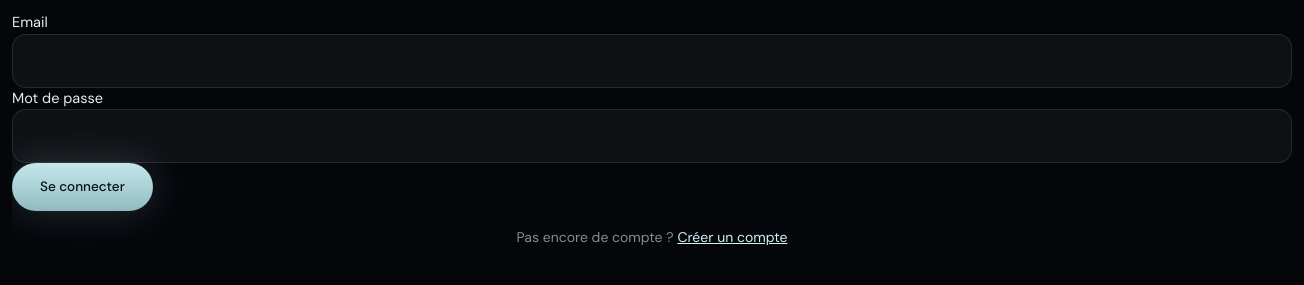
it: Login › shows an error message when signIn fails
The image size is (1304, 285).
Type "ada@mimir.app" into the field labelled "Email" at (652, 61), box [12,34,1292,88]
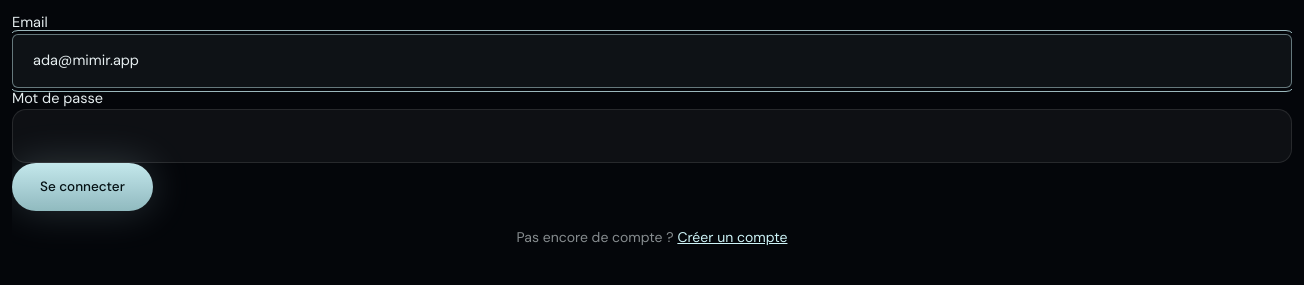
Type "mauvais" into the password field labelled "Mot de passe" at (652, 136), box [12,109,1292,163]
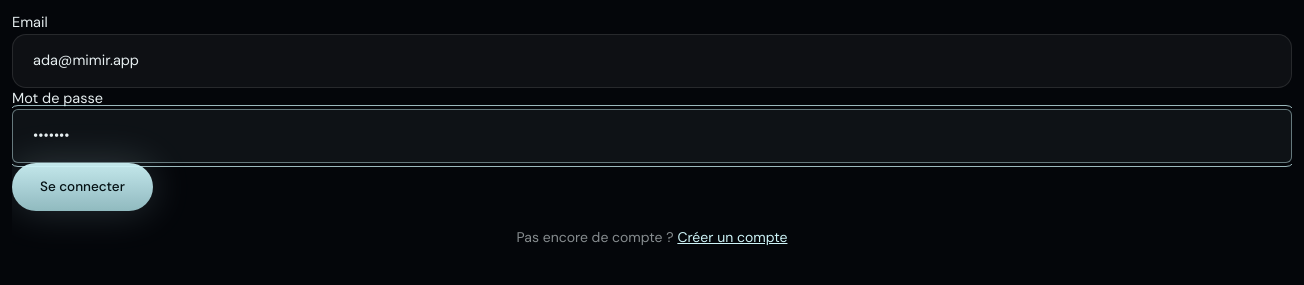
Click the button "Se connecter" at (82, 187), box [12,163,153,211]
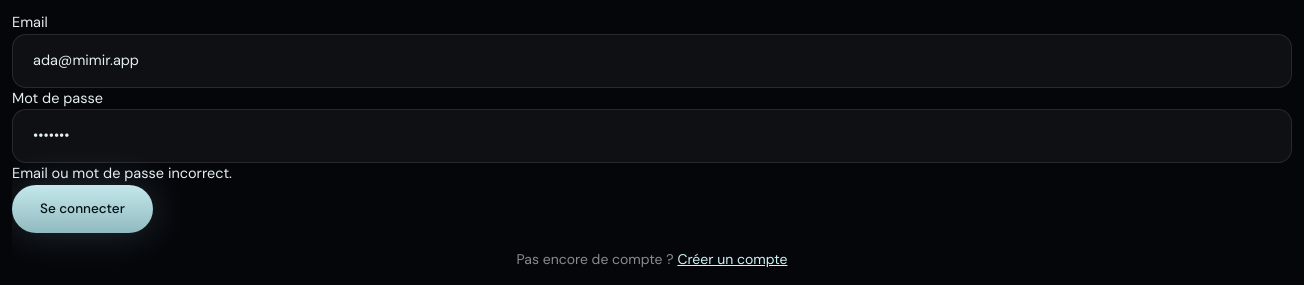
Check: the message shows "incorrect", box [12,164,232,182]
